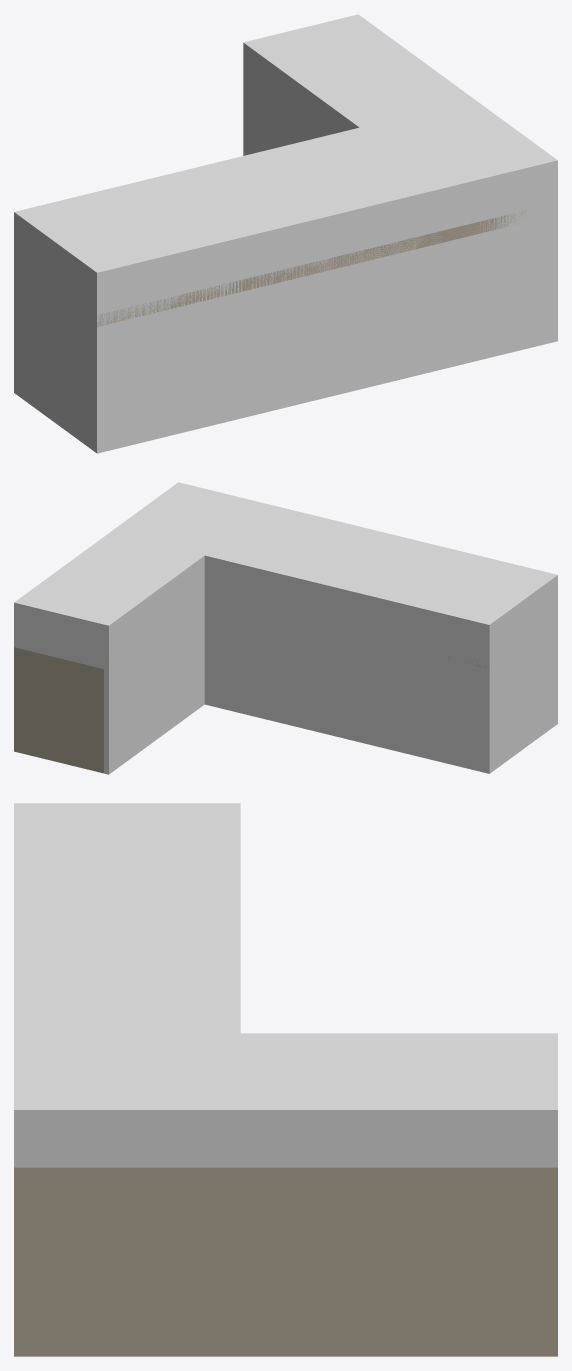
Rendered from Table1.fbx.
3 renders of one model, top to bottom at view 1: azimuth 30°, elevation 25°; view 2: azimuth 150°, elevation 25°; view 3: azimuth 270°, elevation 25°, orthographic. The views are drawn at different scales.
Visible parts, largest first — view 1: Table1_NMO, Cabinet6_NMO, Table1_part1, Table1_part2; view 2: Table1_NMO, Cabinet6_NMO, Cabinet6; view 3: Cabinet6, Cabinet6_NMO, Table1_NMO, Table1_part2.
Part boxes in pixels (x1,y1,x2,y2): Table1_NMO: (14,127,442,453); Cabinet6_NMO: (243,14,557,369); Table1_part1: (97,231,442,326); Table1_part2: (442,210,525,242); Table1_NMO: (204,505,557,773); Cabinet6_NMO: (14,482,272,774); Cabinet6: (14,647,103,773); Cabinet6: (14,1184,557,1356); Cabinet6_NMO: (14,1033,557,1167); Table1_NMO: (14,803,240,1033); Table1_part2: (14,1167,557,1183).
Bounding box in the file's own units: 800 × 300 × 600.
